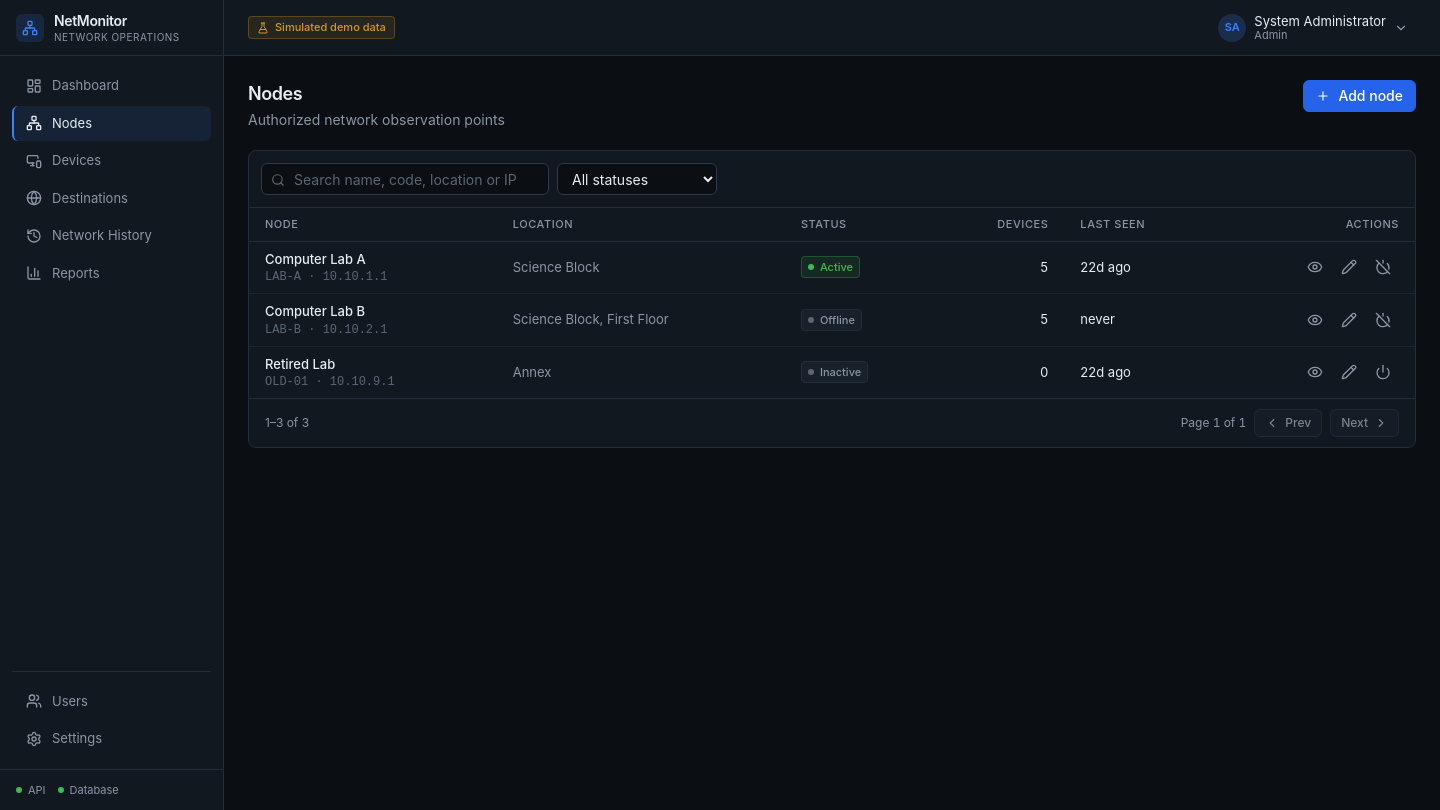
Test case: NodesPage: search, filter and paging › searches on the backend after a short pause, from page 1
Type "lab b" into the search field named "Search nodes". click: (405, 179)
box: x1=261 y1=163 x2=549 y2=195
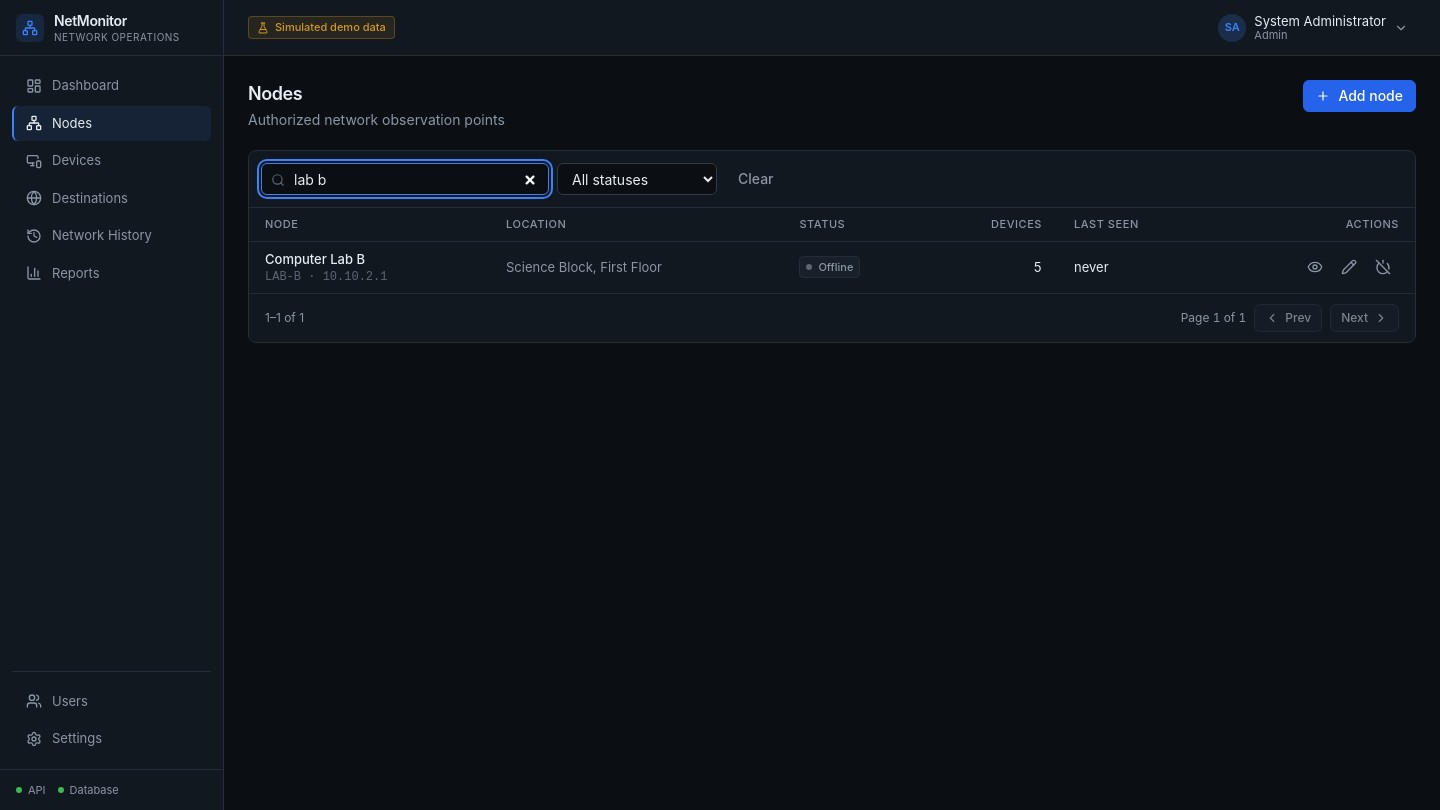
Expected: the row "Computer Lab B" is shown, x1=249 y1=241 x2=1415 y2=293
Now the text "Computer Lab A" is gone
